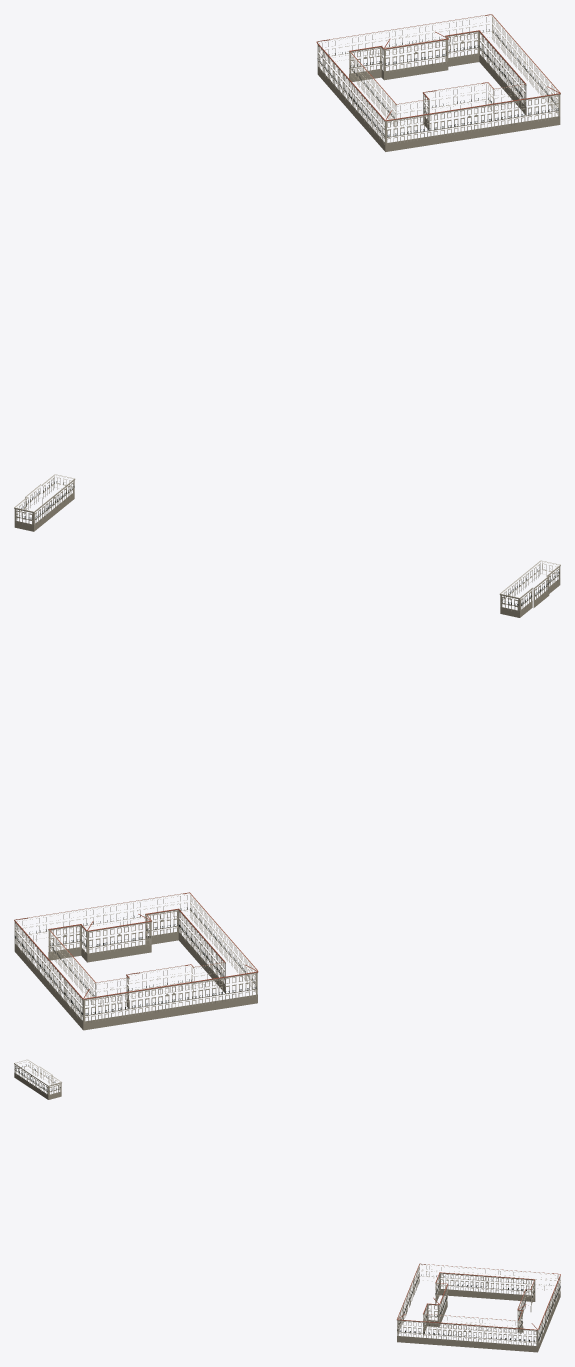
3 renders of one model, top to bottom at view 1: azimuth 30°, elevation 25°; view 2: azimuth 210°, elevation 25°; view 3: azimuth 270°, elevation 25°, orthographic. The views are drawn at different scales.
Visible parts, largest first — view 1: detail; view 2: detail; view 3: detail.
Part boxes in pixels (x1=…): detail: x1=14, y1=14, x2=560, y2=531; detail: x1=14, y1=560, x2=560, y2=1030; detail: x1=14, y1=1059, x2=560, y2=1352.
Size of the model in its own units: 362 by 22.49 by 287.
